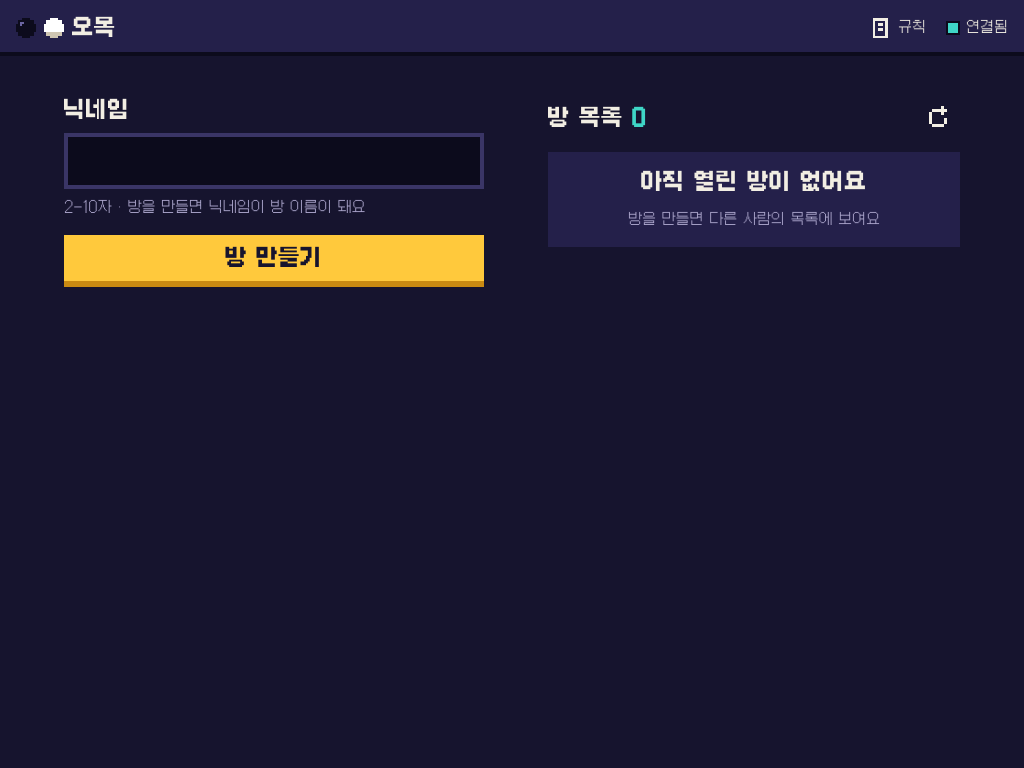
HomeScreen › 헤더의 규칙 버튼으로 규칙을 볼 수 있어요
Click the button "규칙".
click(898, 28)  # box [860, 6, 936, 50]
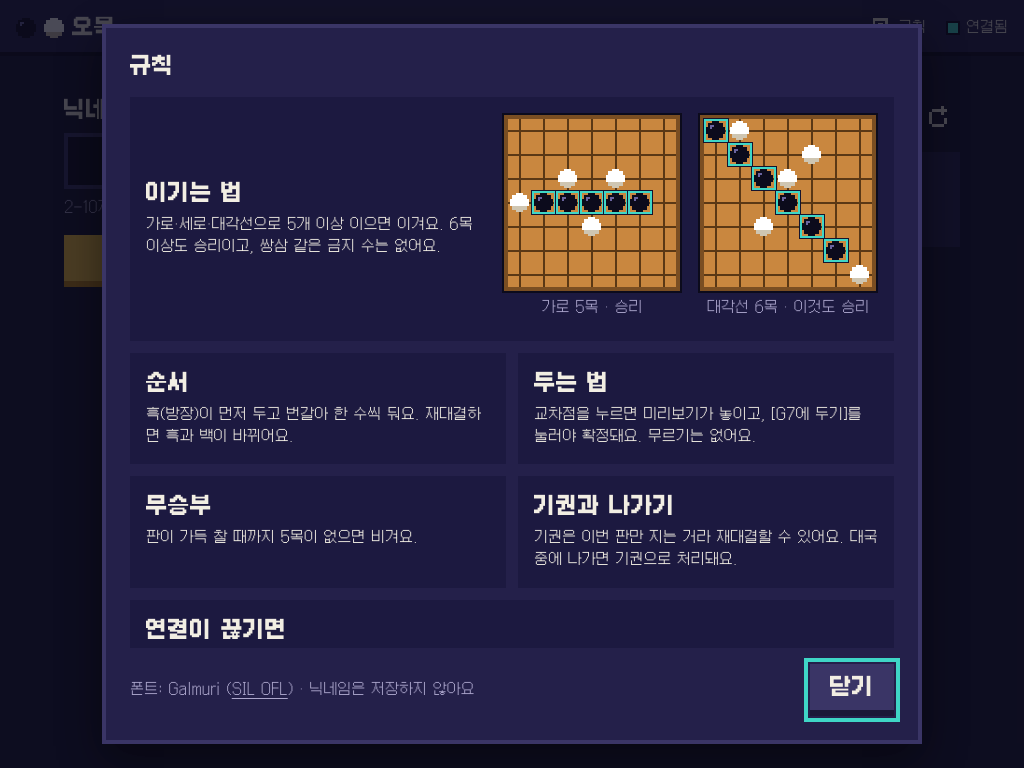
expect the dialog "규칙" is shown: met
